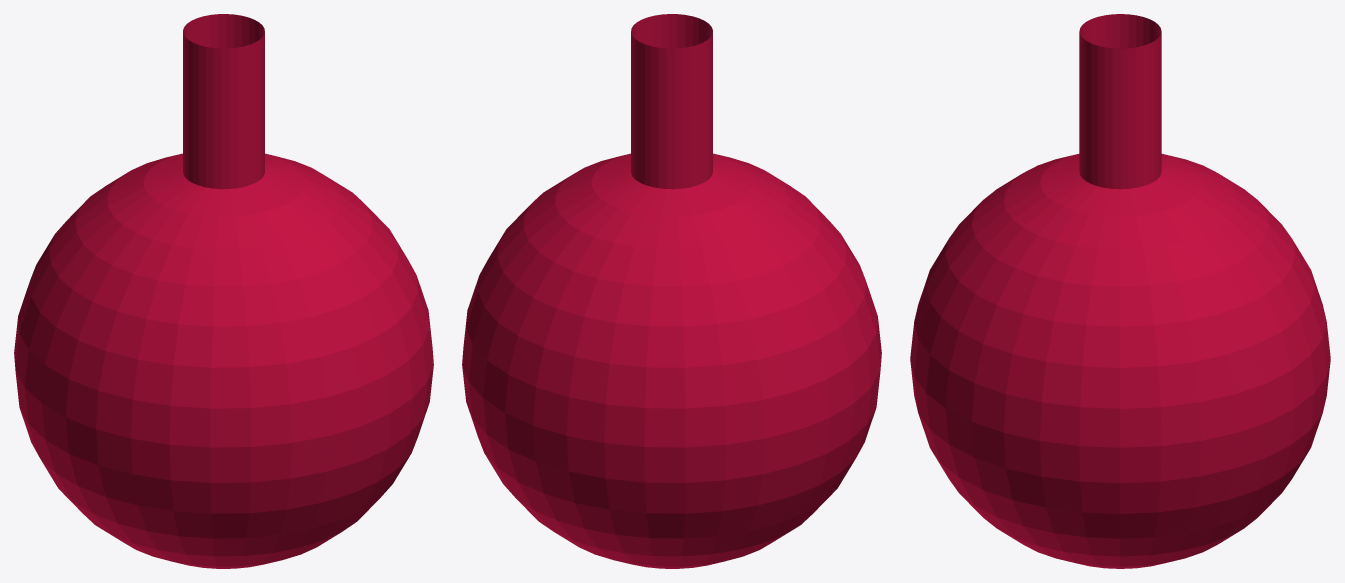
File: krogla.glb
The picture shows the model from 3 angles, left to right: view 1: azimuth 30°, elevation 25°; view 2: azimuth 150°, elevation 25°; view 3: azimuth 270°, elevation 25°; orthographic projection.
Parts seen in each view (by area): view 1: Sphere; view 2: Sphere; view 3: Sphere.
Boxes of the visible parts, <box> form: Sphere: <box>14,14,433,568</box>; Sphere: <box>462,14,881,568</box>; Sphere: <box>910,14,1330,568</box>.
Bounding box in the file's own units: 2 × 2.72 × 2.
Materials: 1 (1 with a texture image).
